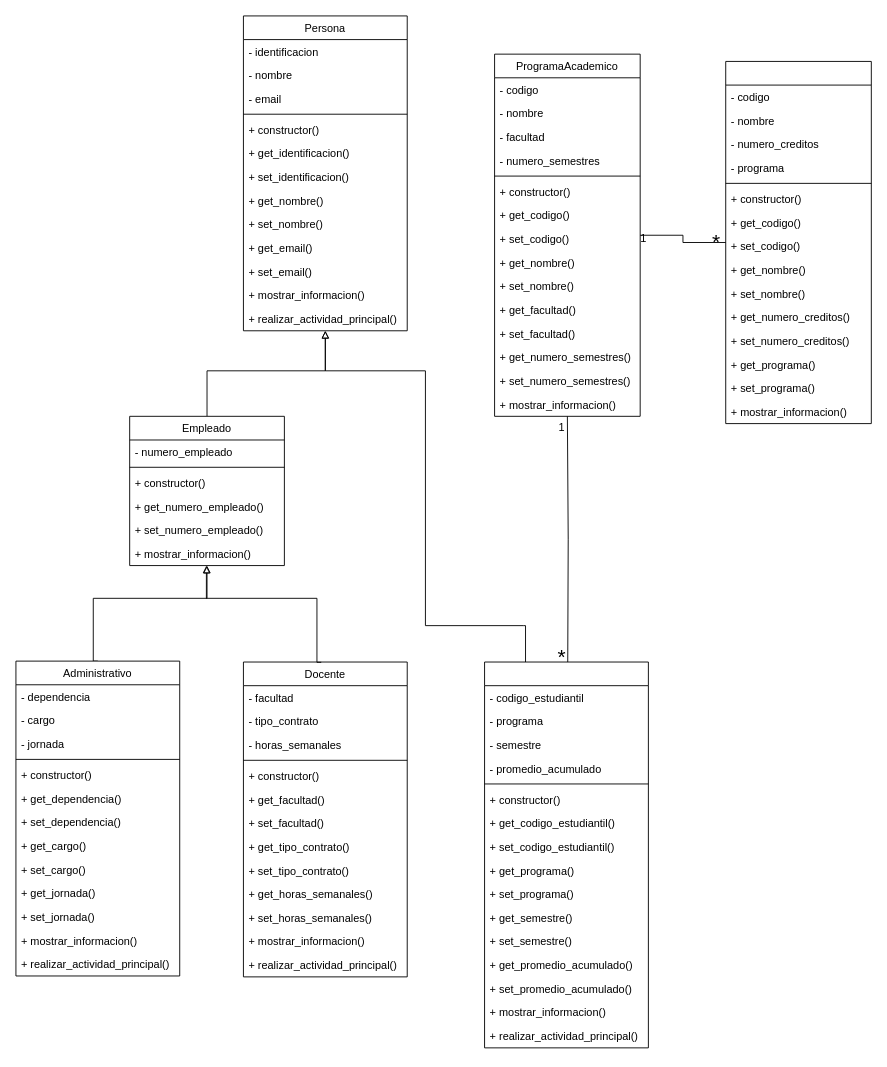
This 887x1067 diagram has some shape labels left out. The box of each missing label's shape, as (x1, y1, x2, y2) in pixels:
Asignatura: (725, 61, 871, 424)
Estudiante: (484, 661, 648, 1048)
